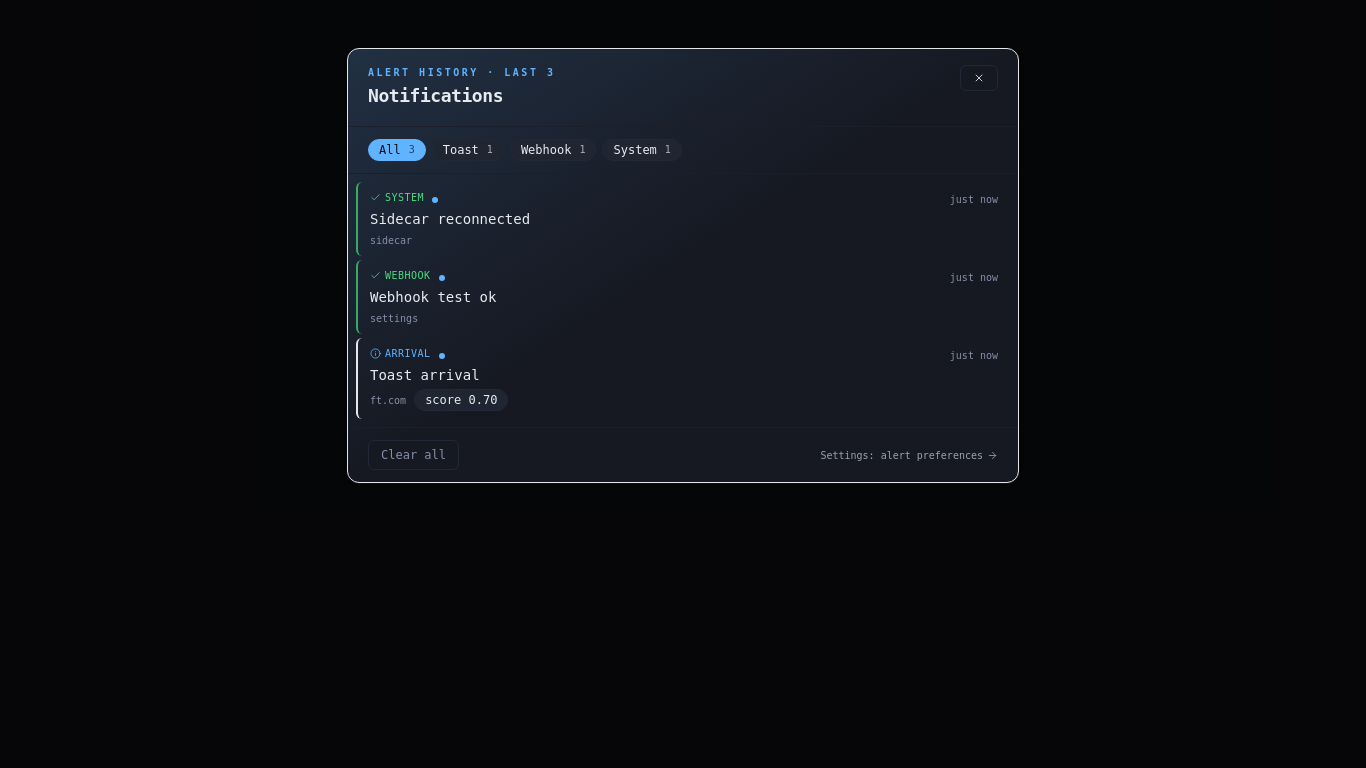
Test case: notification center › filter chip narrows the list to a single category
This screenshot has width=1366, height=768.
Expected: the number of options with test id "notification-row" is 3, [356,182,1010,256]; [356,260,1010,334]; [356,338,1010,419]
Click "Webhook" chip — only the webhook entry should remain.
Click the tab with test id "notif-filter-webhook" at [553, 150], box [510,139,596,161]
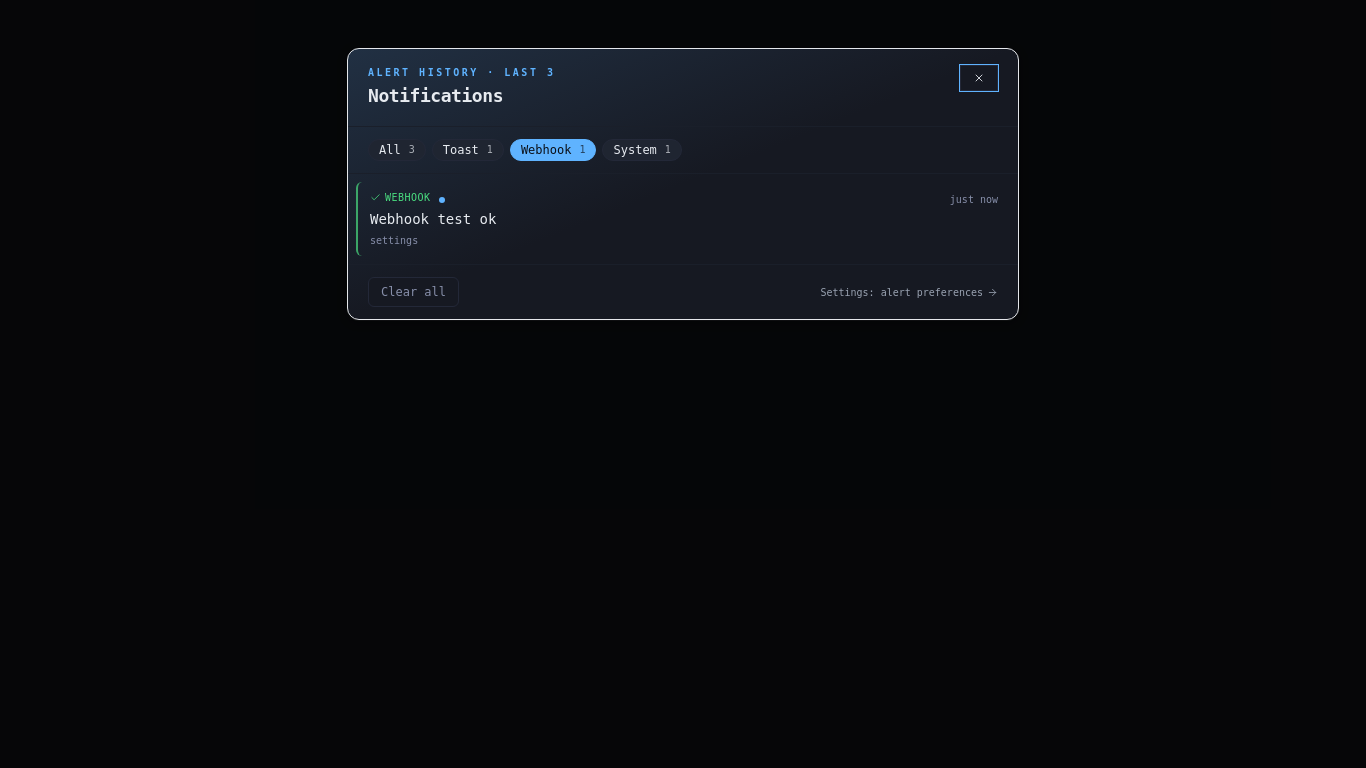
Expected: the text "Webhook test ok" is shown, [370,211,496,227]
Result: the number of options with test id "notification-row" is 1 at [356,182,1010,256]
